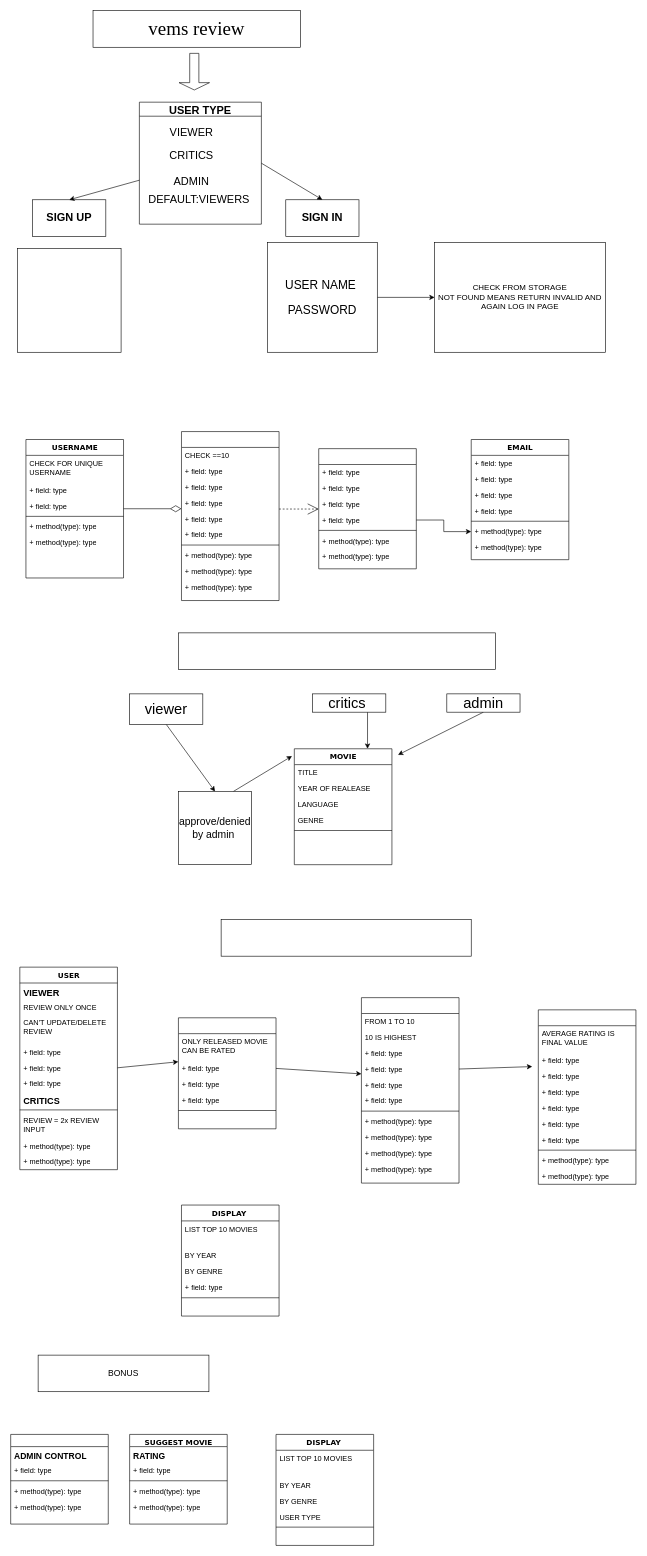
The diagram is 647 pixels wide and 1556 high, and some of its shapes have lost their labels. Here are the shapes that lost their labels. From the top down, the box of each, then its label:
(17, 248, 121, 352): ENTER DETAILS USERNAME PHONE NUMBER PASSWORD EMAIL
(181, 431, 279, 601): PHONE NUMER
(318, 448, 416, 569): PASSWORD
(178, 632, 496, 669): ADD MOVIE
(221, 919, 471, 956): RATING INPUT
(178, 1017, 276, 1129): DATE VALIDITY
(361, 997, 459, 1183): GETING INPUT
(538, 1009, 636, 1184): CALCULATION
(10, 1434, 108, 1524): UPDATE REVIEW
